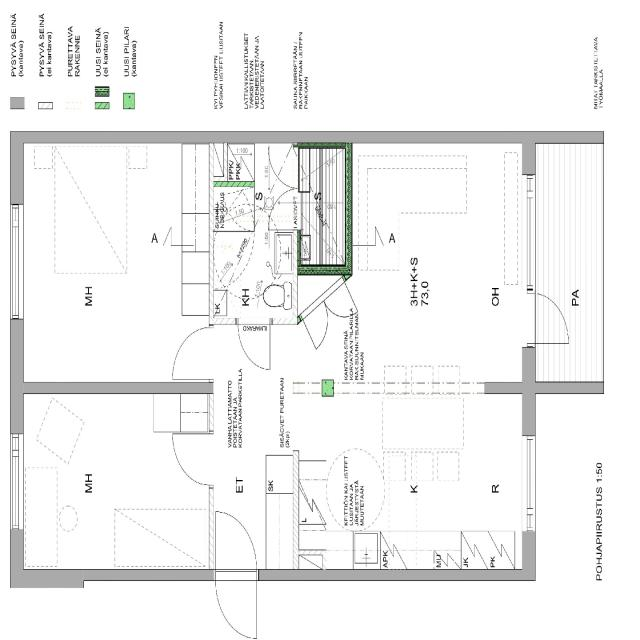door: (214, 509, 256, 580), (214, 569, 256, 638), (522, 292, 571, 342), (172, 328, 214, 379), (172, 433, 213, 485), (238, 318, 270, 370), (264, 188, 298, 229), (264, 148, 298, 188)
